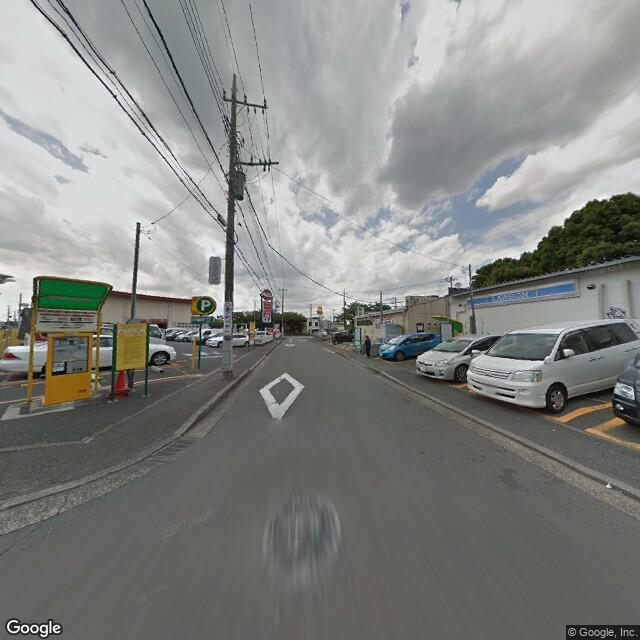lawson: (470, 274, 584, 310)
